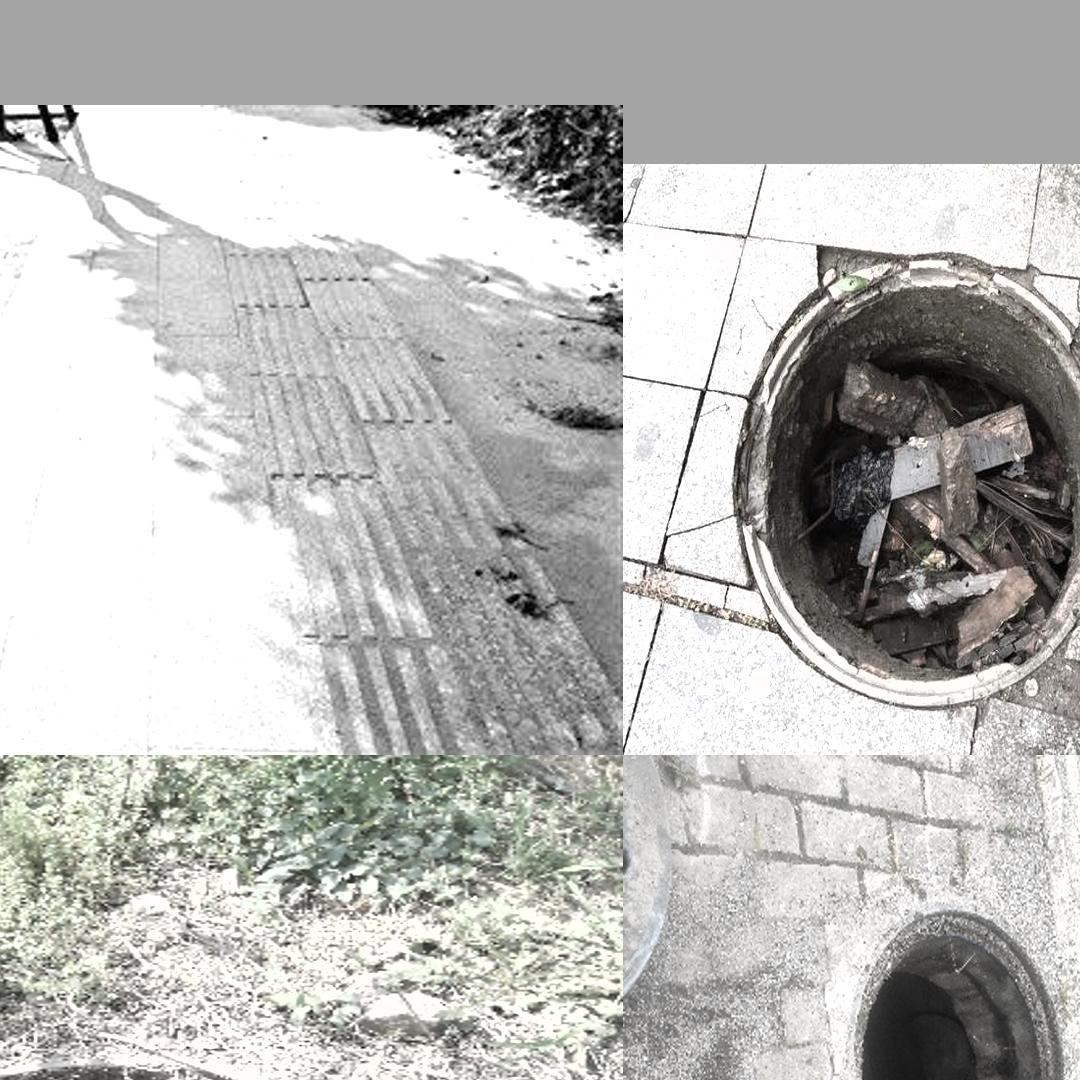lose: (728, 260, 1080, 708), (854, 911, 1059, 1080), (0, 1052, 479, 1080), (0, 232, 22, 395)
